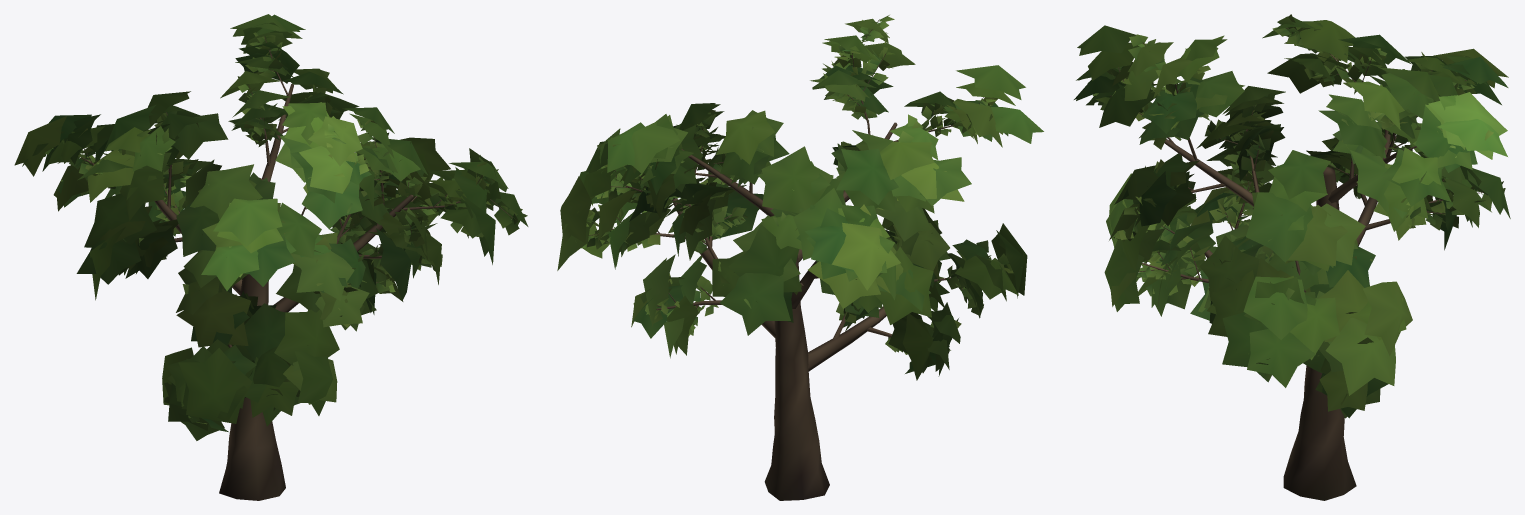
The model's file is oak-b.lod0.glb.
3 views of the same model, side by side, from view 1: azimuth 30°, elevation 25°; view 2: azimuth 150°, elevation 25°; view 3: azimuth 270°, elevation 25° (orthographic). The views are drawn at different scales.
Bounding box in the file's own units: 8.01 × 7.59 × 6.74.
